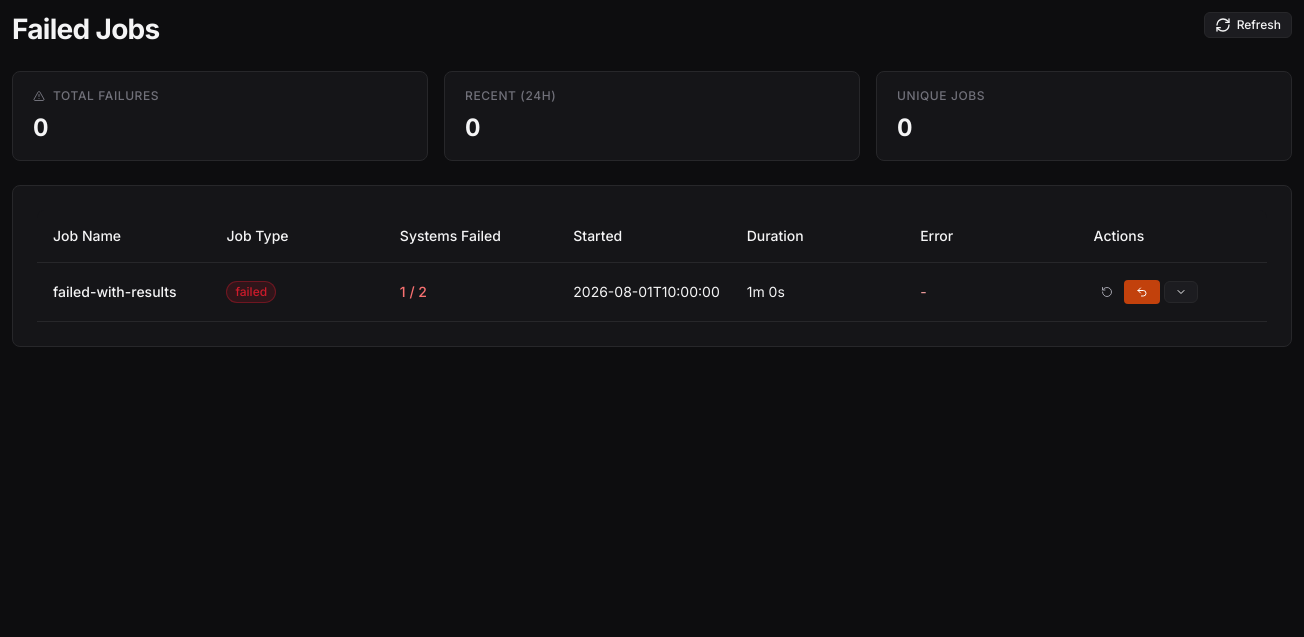
Scenario: failed jobs detailed results › renders the decoded entries in the expanded detail block
Expected: the text titled "failed-with-results" is shown, [53, 283, 176, 300]
What coordinates should you click on to do the following:
click the button titled "Toggle Details"
I would click on:
 (1181, 292)
Its box is [1164, 281, 1198, 303].
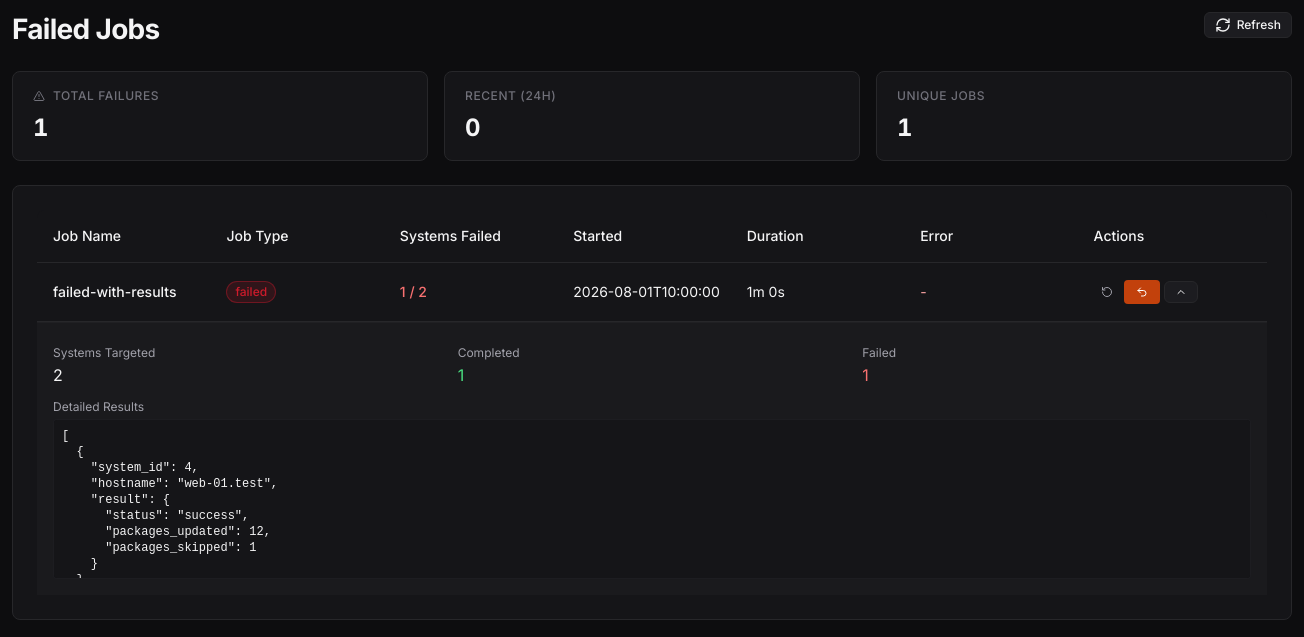
Expected: the text "Detailed Results" is shown, [53, 399, 144, 414]
Expected: the text "db-01.test" is shown, [62, 429, 451, 620]
Expected: the text "locked dpkg" is shown, [62, 429, 451, 620]
